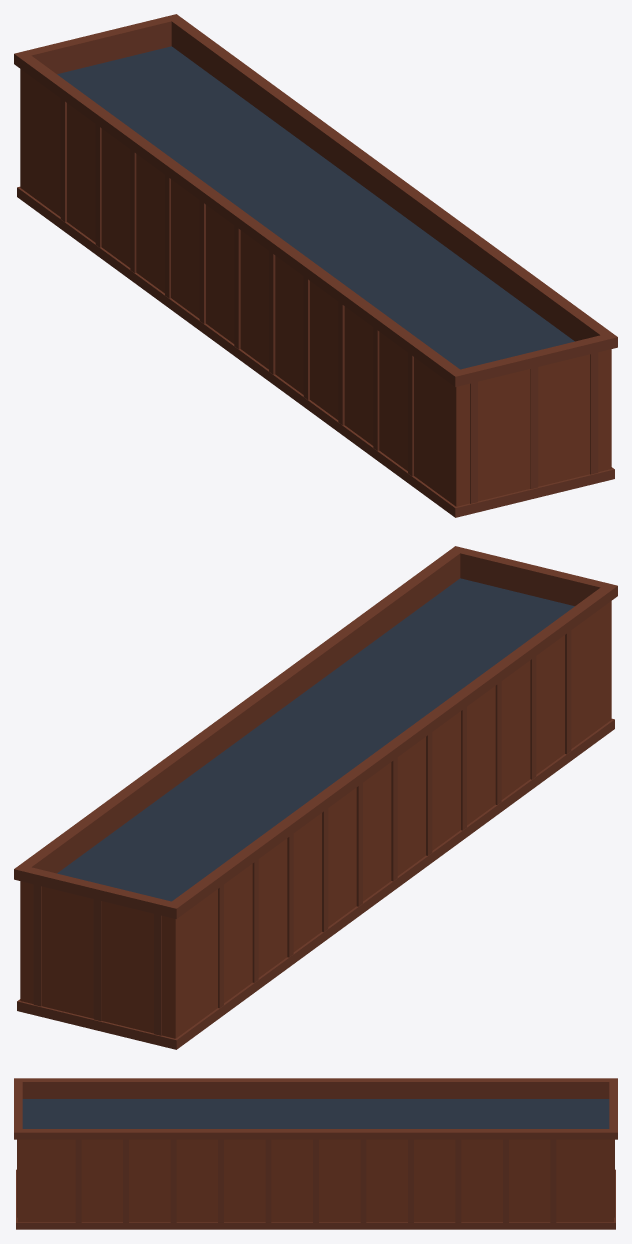
Rendered from SM_Vehicles_TrainPart_04.fbx.
The picture shows the model from 3 angles, top to bottom: view 1: azimuth 30°, elevation 25°; view 2: azimuth 150°, elevation 25°; view 3: azimuth 270°, elevation 25°; orthographic projection. The views are drawn at different scales.
Parts seen in each view (by area): view 1: SM_Vehicles_TrainPart_04; view 2: SM_Vehicles_TrainPart_04; view 3: SM_Vehicles_TrainPart_04.
Part boxes in pixels (x1,y1,x2,y2): SM_Vehicles_TrainPart_04: (14, 14, 617, 517); SM_Vehicles_TrainPart_04: (14, 546, 617, 1049); SM_Vehicles_TrainPart_04: (14, 1078, 617, 1229).
Bounding box in the file's own units: 3.62 × 3.04 × 17.05.
